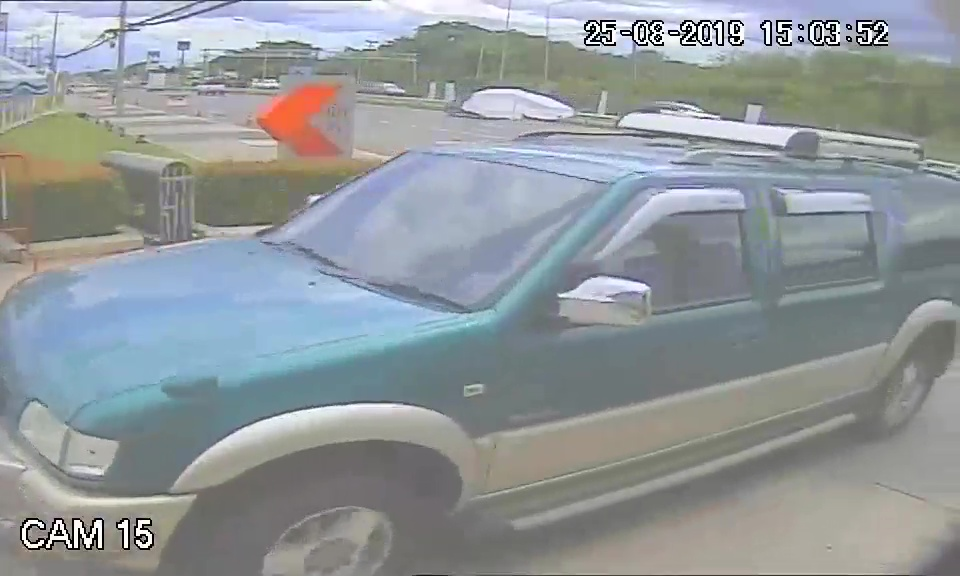pickup: (4, 126, 958, 558)
